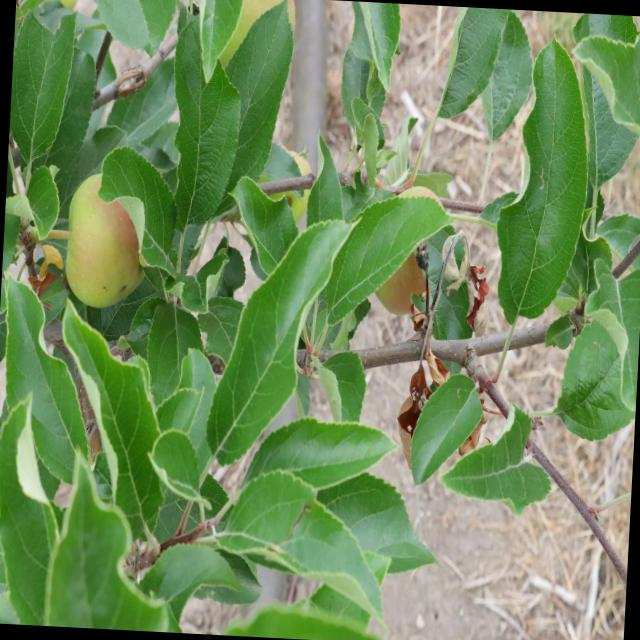-FireBlight-: (401, 264, 452, 465), (449, 250, 495, 336)
